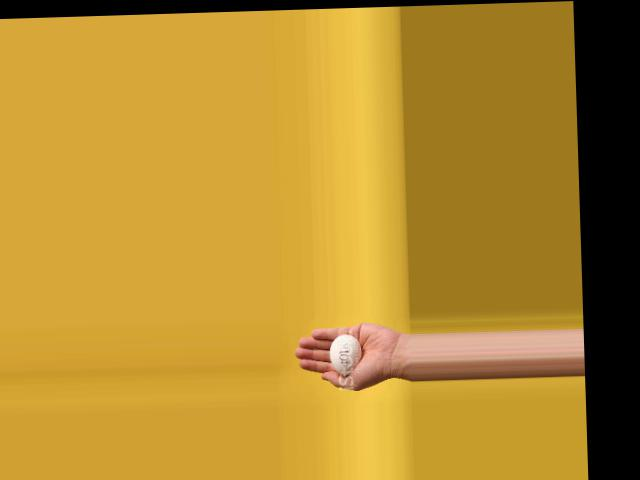egg: (329, 333, 361, 375)
